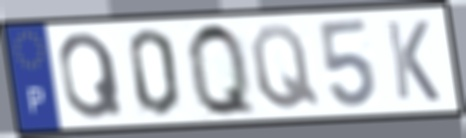0: (126, 25, 185, 120)
5: (315, 16, 380, 111)
K: (383, 18, 443, 104)
Q: (184, 18, 261, 120), (247, 22, 323, 113), (55, 29, 127, 122)
